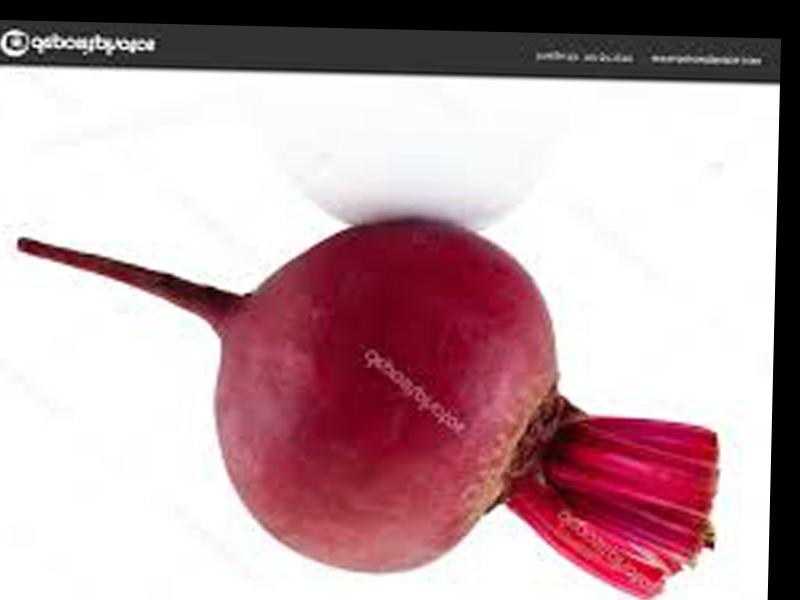Beet: (10, 210, 725, 598)
